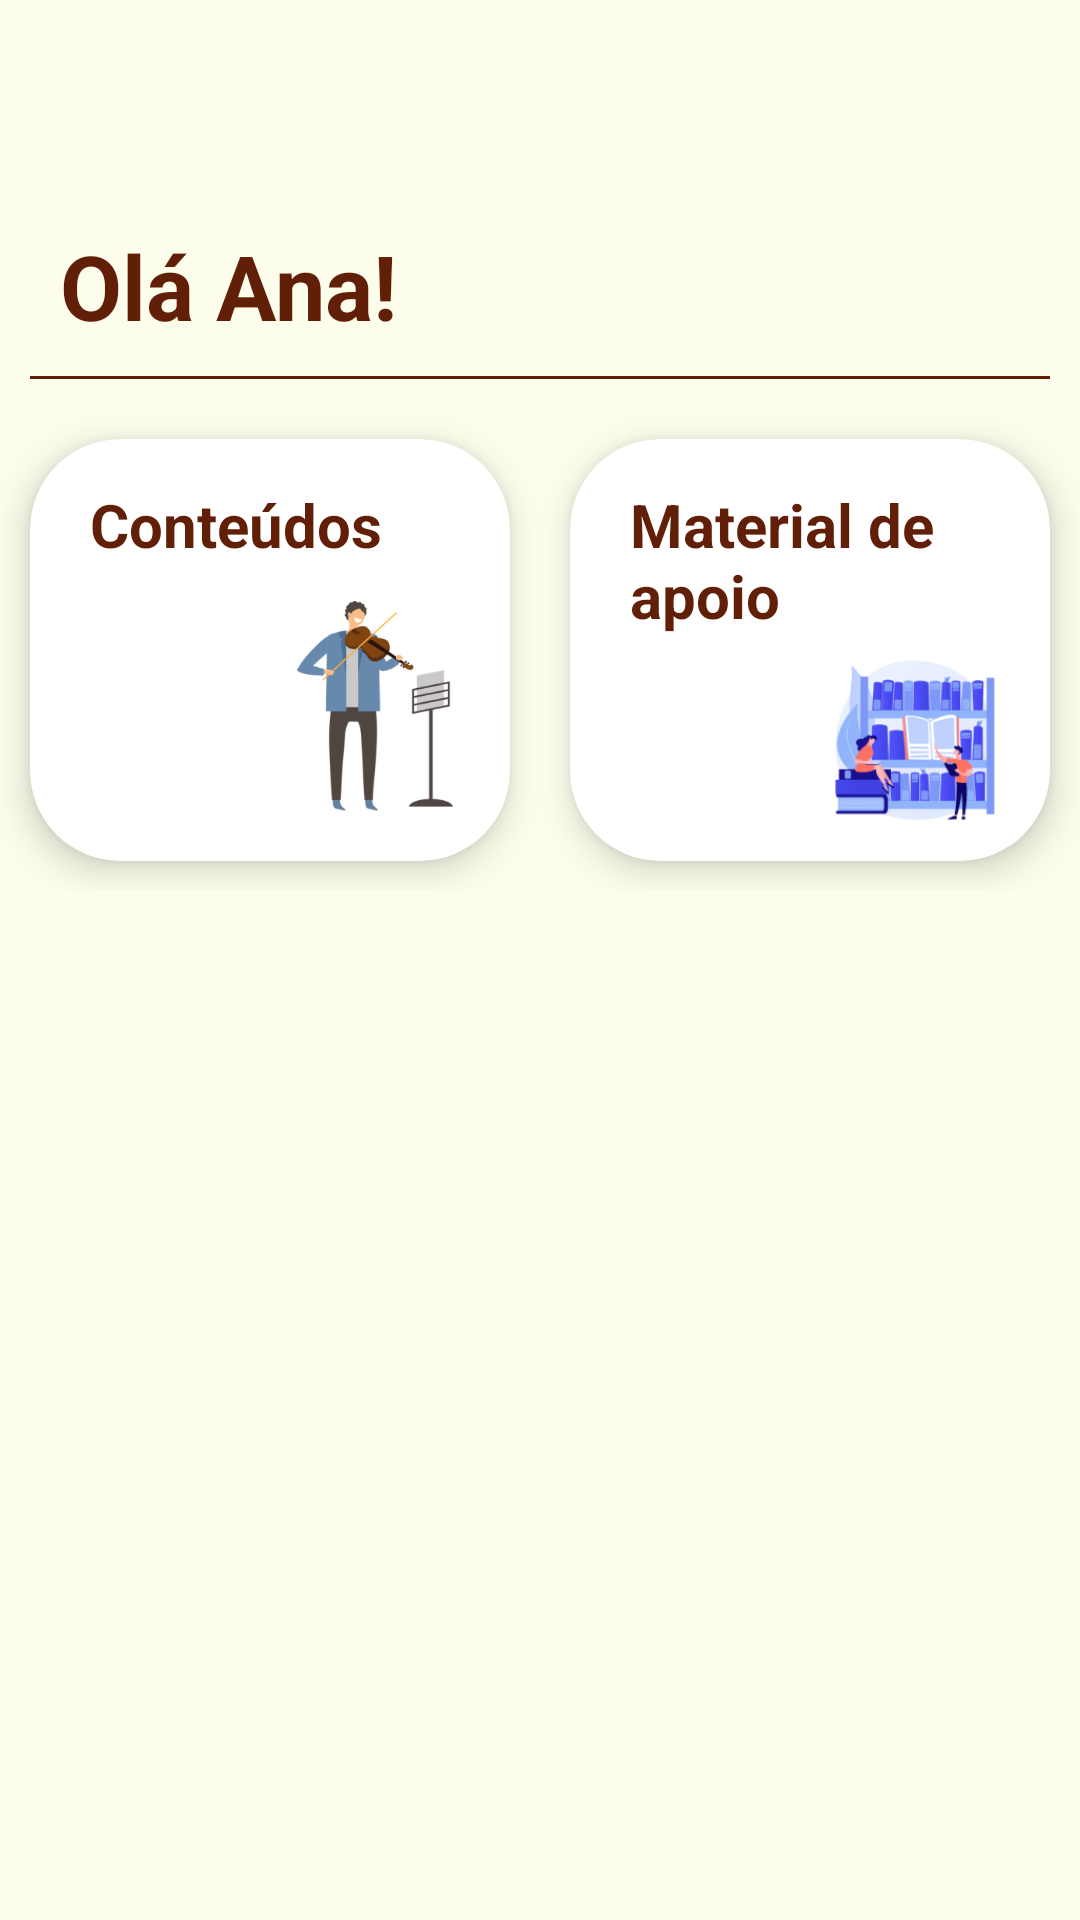

Icons on this 1080x1920 Android screen, each with its box as (x1, y1, x2, y2):
activitygroups ilustration: (297, 601, 453, 811)
helpmaterial illustration: (835, 666, 995, 820)
